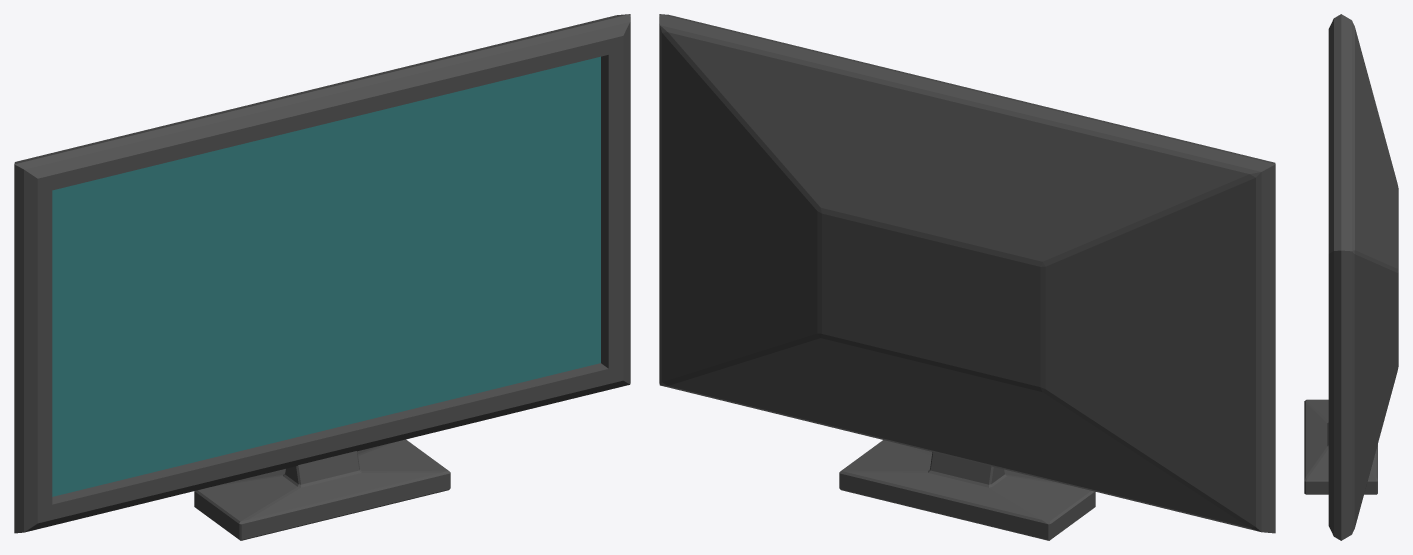
3 renders of one model, left to right at view 1: azimuth 30°, elevation 25°; view 2: azimuth 150°, elevation 25°; view 3: azimuth 270°, elevation 25°, orthographic. The views are drawn at different scales.
Parts seen in each view (by area): view 1: Television B; view 2: Television B; view 3: Television B.
Part boxes in pixels (x1,y1,x2,y2): Television B: (14,14,630,540); Television B: (659,14,1275,540); Television B: (1304,14,1398,540).
Bounding box in the file's own units: 9.39 × 5.97 × 1.58.
